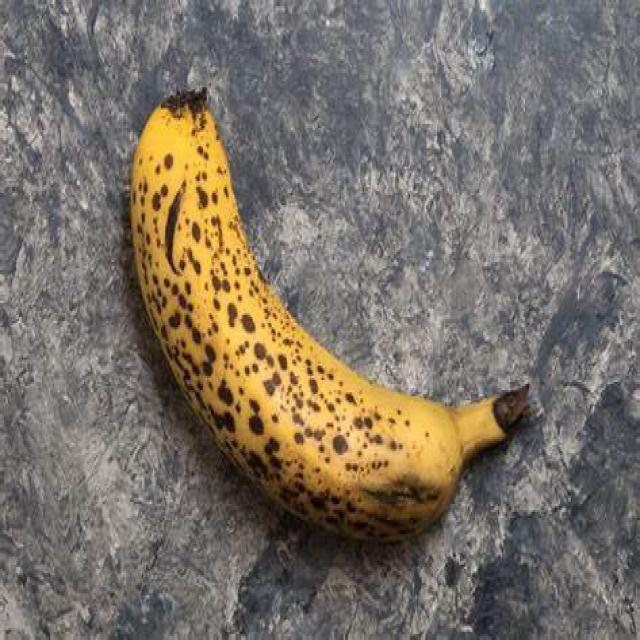Banana: (123, 88, 538, 536)
